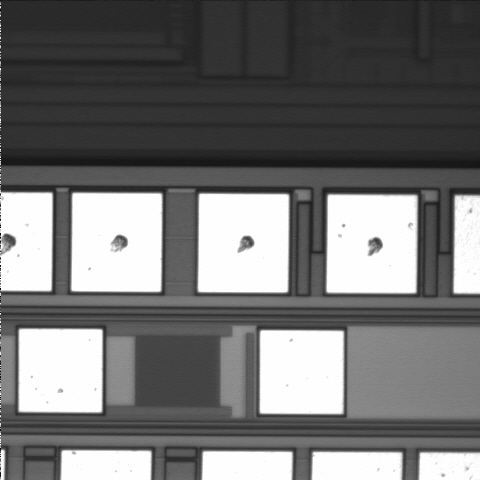pad: (71, 193, 162, 292), (198, 194, 289, 292), (327, 195, 417, 293), (260, 330, 344, 414), (19, 329, 102, 412)
